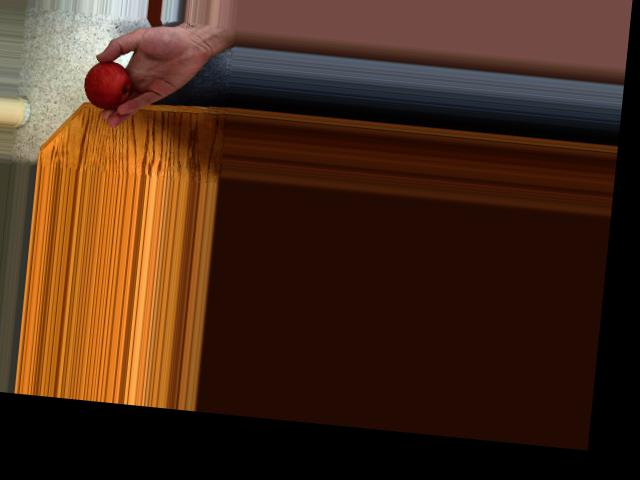apple: (81, 51, 137, 111)
